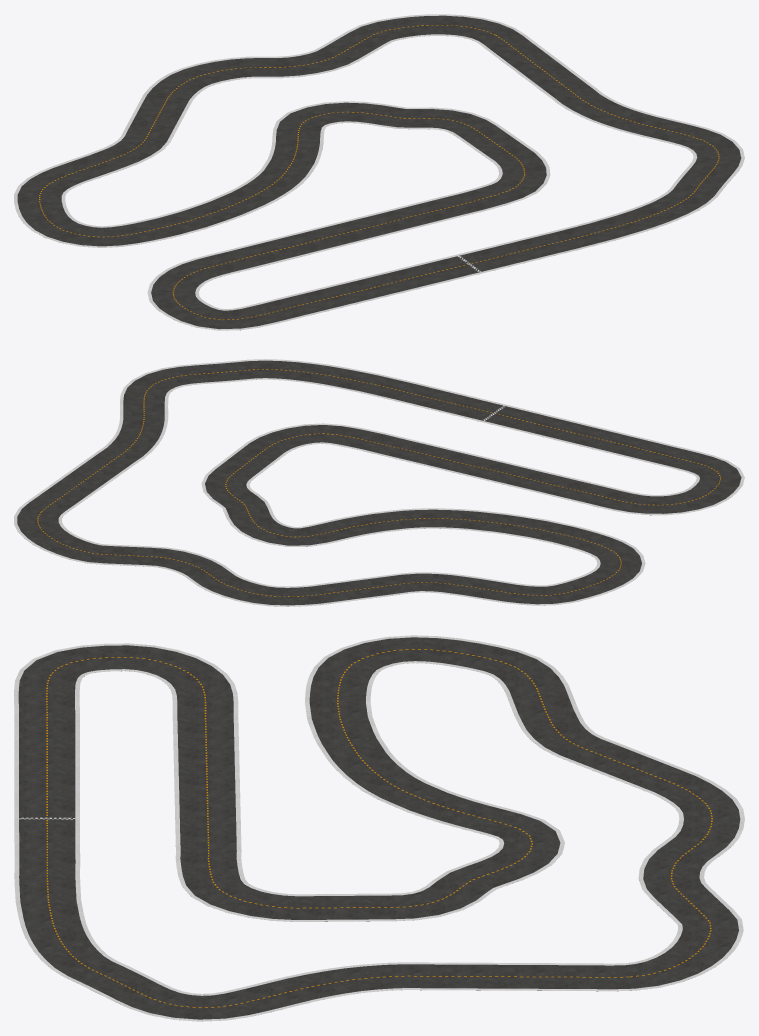
Rendered from 2022_may_pro.dae.
3 renders of one model, top to bottom at view 1: azimuth 30°, elevation 25°; view 2: azimuth 150°, elevation 25°; view 3: azimuth 270°, elevation 25°, orthographic. The views are drawn at different scales.
Parts seen in each view (by area): view 1: road, il, ol, cl; view 2: road, il, ol, cl; view 3: road, il, ol, cl.
Boxes of the visible parts, <box> form: road: <box>17,15,741,330</box>; il: <box>14,14,744,330</box>; ol: <box>61,34,697,310</box>; cl: <box>39,25,719,320</box>; road: <box>17,360,741,606</box>; il: <box>14,359,744,606</box>; ol: <box>58,378,699,587</box>; cl: <box>37,369,720,596</box>; road: <box>18,637,740,1021</box>; il: <box>14,635,744,1021</box>; ol: <box>75,661,683,995</box>; cl: <box>46,649,712,1007</box>.
Size of what is drawn, in the model's own units: 14.86 by 11.88 by 0.0015.
5 materials, 5 textured.
